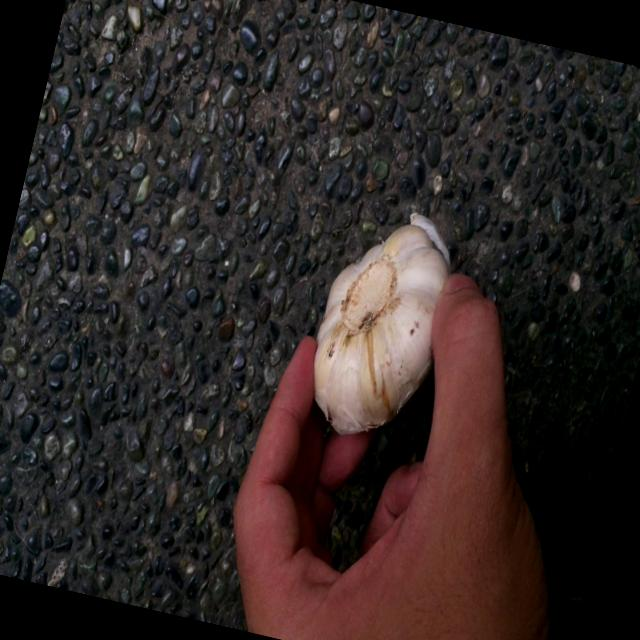garlic: (288, 195, 476, 460)
